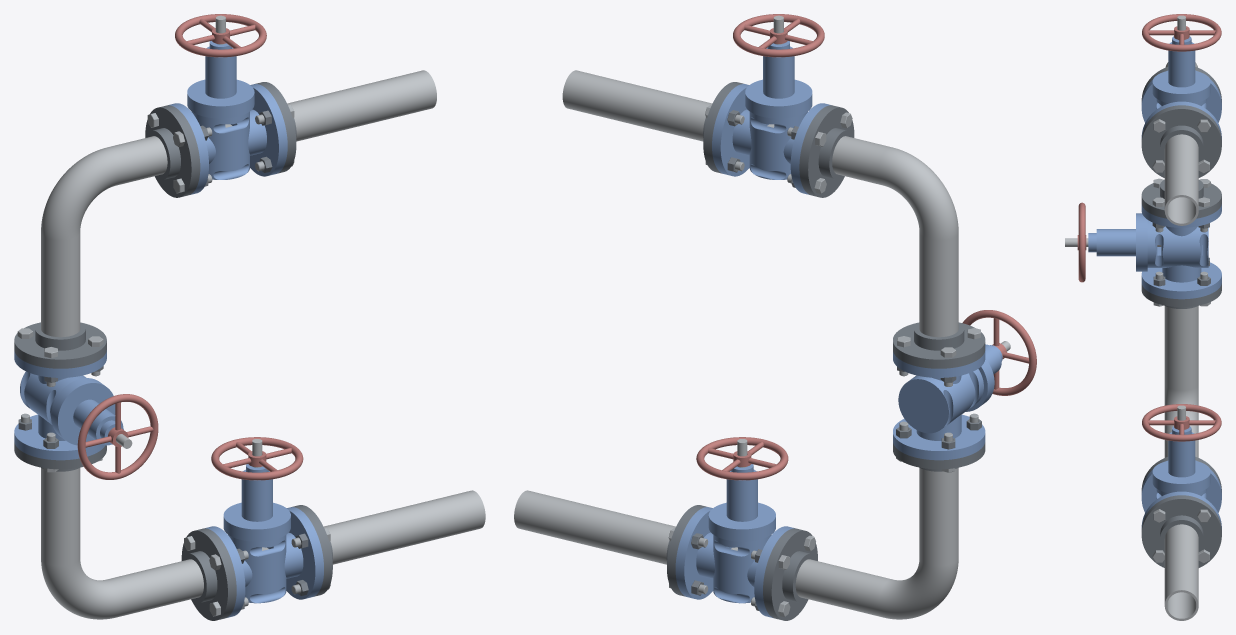
The model's file is ax_pipe_run_valves.glb.
3 renders of one model, left to right at view 1: azimuth 30°, elevation 25°; view 2: azimuth 150°, elevation 25°; view 3: azimuth 270°, elevation 25°, orthographic. The views are drawn at different scales.
Parts seen in each view (by area): view 1: body bottom valve, body top valve, bottom pipe, outlet, 360 long, top pipe, outlet, 335 long, body riser valve, bend 2 (top), riser pipe, upper, 230 long, riser pipe, lower, 70 long, bottom pipe, inlet, 210 long, bend 1 (bottom), flange top, inlet, flange bottom, inlet (+11 smaller); view 2: body riser valve, body bottom valve, body top valve, bottom pipe, outlet, 360 long, top pipe, outlet, 335 long, bend 2 (top), riser pipe, upper, 230 long, riser pipe, lower, 70 long, bottom pipe, inlet, 210 long, bend 1 (bottom), flange top, inlet, flange bottom, inlet (+10 smaller); view 3: body riser valve, bottom pipe, outlet, 360 long, flange top, outlet, flange bottom, outlet, top pipe, outlet, 335 long, riser pipe, lower, 70 long, bonnet top valve, bonnet bottom valve, handwheel top valve, handwheel bottom valve, bonnet riser valve, body bottom valve (+7 smaller).
Boxes of the visible parts, x1,y1,x2,y2 form: body bottom valve: (203,507,323,617); body top valve: (168,84,287,194); bottom pipe, outlet, 360 long: (324,490,485,564); top pipe, outlet, 335 long: (287,70,436,141); body riser valve: (14,350,106,460); bend 2 (top): (41,147,121,240); riser pipe, upper, 230 long: (41,233,80,337); riser pipe, lower, 70 long: (41,468,80,565); bottom pipe, inlet, 210 long: (108,559,203,617); bend 1 (bottom): (41,558,121,619); flange top, inlet: (145,105,200,197); flange bottom, inlet: (181,528,236,620); body riser valve: (893,351,991,460); body bottom valve: (675,507,794,618); body top valve: (712,84,831,194); bottom pipe, outlet, 360 long: (514,490,675,564); top pipe, outlet, 335 long: (562,70,712,141); bend 2 (top): (878,147,958,240); riser pipe, upper, 230 long: (919,233,958,337); riser pipe, lower, 70 long: (919,468,958,565); bottom pipe, inlet, 210 long: (795,559,891,616); bend 1 (bottom): (878,558,958,619); flange top, inlet: (799,105,854,197); flange bottom, inlet: (763,528,817,620); body riser valve: (1141,204,1221,299); bottom pipe, outlet, 360 long: (1164,524,1198,620); flange top, outlet: (1141,105,1221,177); flange bottom, outlet: (1141,495,1221,567); top pipe, outlet, 335 long: (1164,134,1198,225); riser pipe, lower, 70 long: (1164,306,1198,390); bonnet top valve: (1152,36,1210,99); bonnet bottom valve: (1152,426,1210,489); handwheel top valve: (1142,14,1221,51); handwheel bottom valve: (1142,404,1221,441); bonnet riser valve: (1088,213,1141,271); body bottom valve: (1141,460,1221,529).
Size of the model in its own units: 937 by 1172 by 322.
